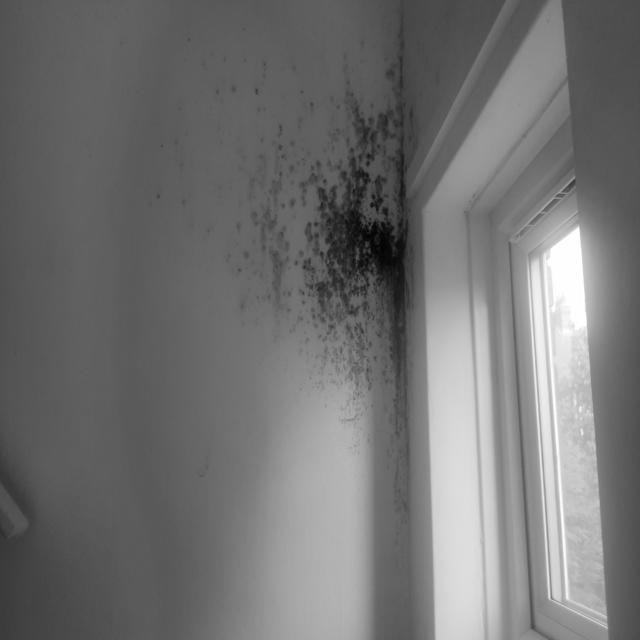stain marks: (110, 4, 428, 572)
